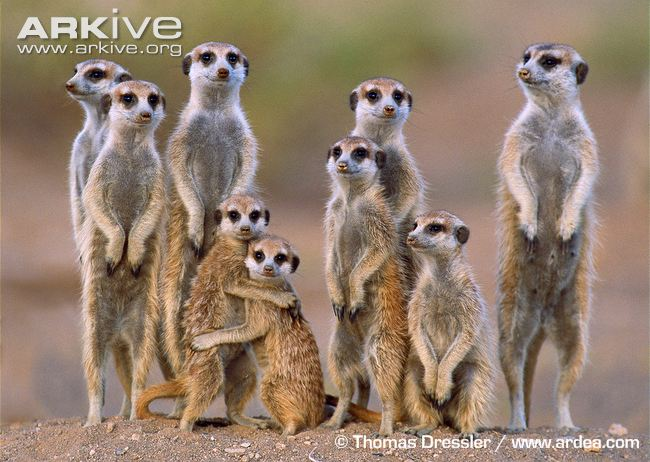meerkat: (484, 21, 600, 434), (69, 75, 171, 433)
